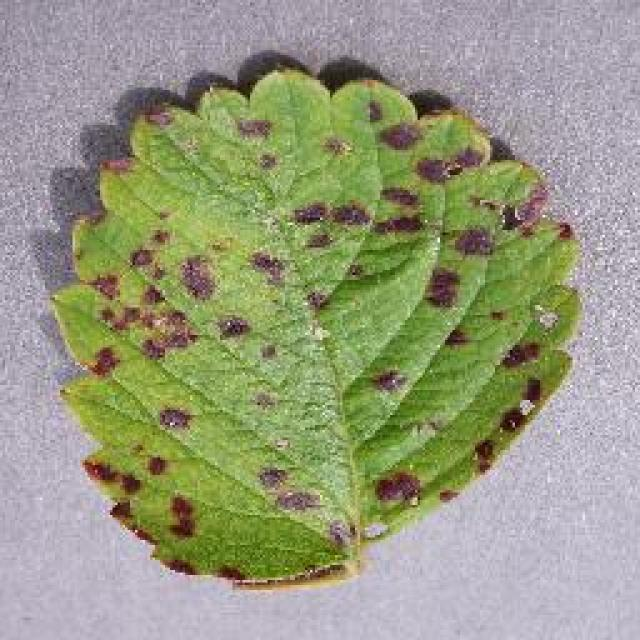Strawberry leaf scorch: (132, 205, 456, 472)
